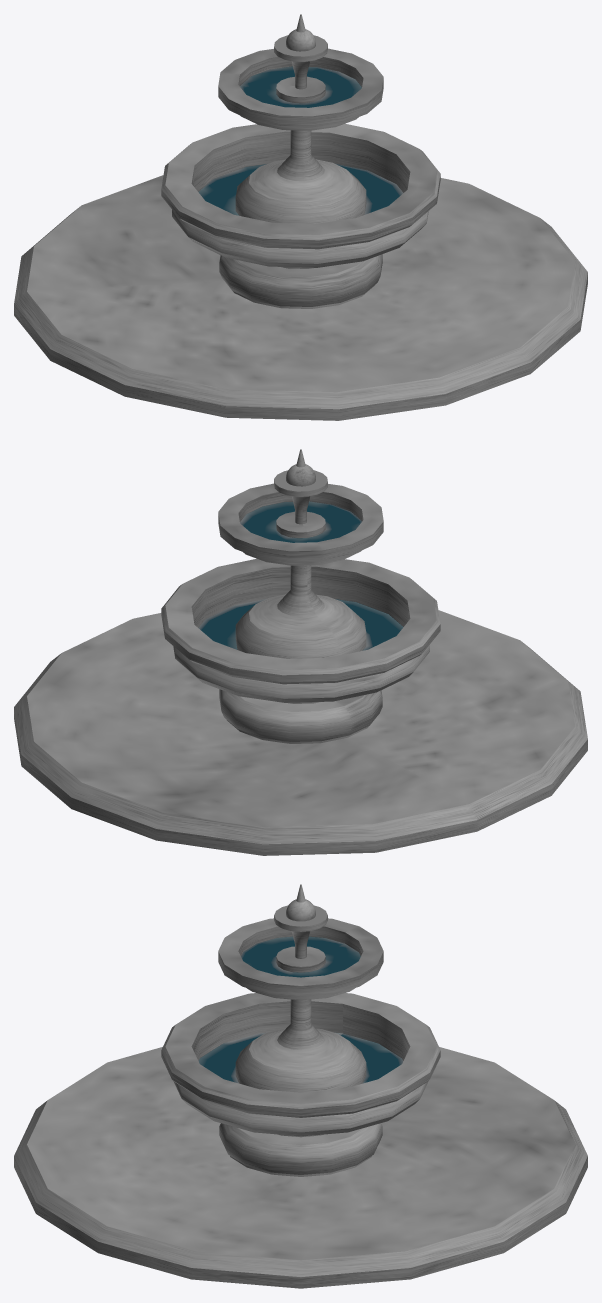
Rendered from fountain.fbx.
3 renders of one model, top to bottom at view 1: azimuth 30°, elevation 25°; view 2: azimuth 150°, elevation 25°; view 3: azimuth 270°, elevation 25°, orthographic.
Visible parts, largest first — view 1: pSphere2; view 2: pSphere2; view 3: pSphere2.
Boxes of the visible parts, x1=… form: pSphere2: x1=14, y1=14, x2=587, y2=420; pSphere2: x1=14, y1=449, x2=587, y2=855; pSphere2: x1=14, y1=884, x2=587, y2=1288.
Size of the model in its own units: 730 by 397 by 730.
1 material, 1 textured.
